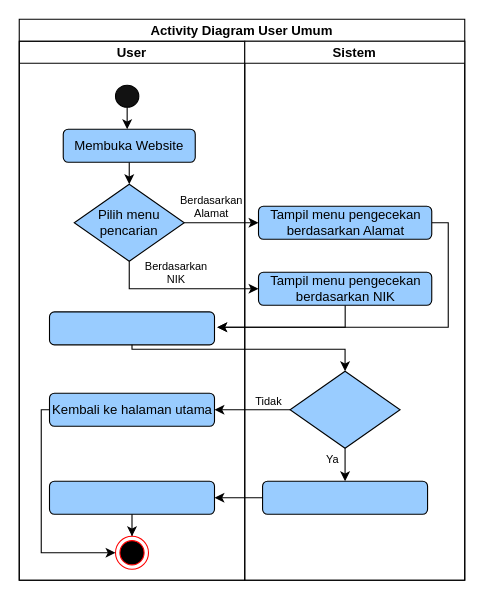
This 484x600 diagram has some shape labels left out. Each missing label, with the centre of its shape:
"Data ditemukan?" belongs at pixel 344 409.
"Input Data" belongs at pixel 131 328.
"Menunggu Bantuan Datang" belongs at pixel 131 497.
"Tampilkan data detail Bantuan" belongs at pixel 344 497.
